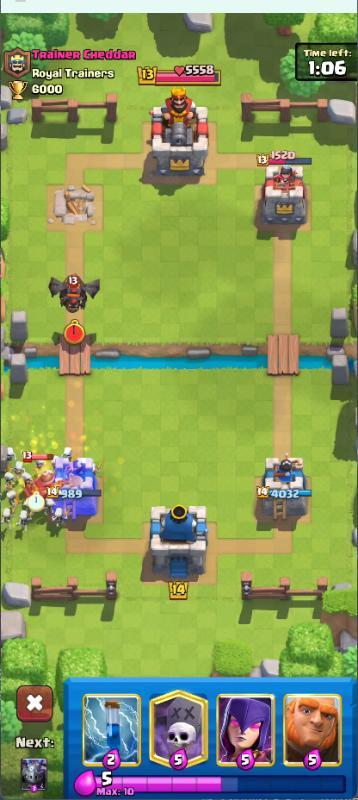enemy_lava_hound: (44, 265, 104, 318)
enemy_miner: (25, 465, 82, 497)
player_skeletons: (46, 498, 72, 527), (15, 503, 36, 527), (0, 468, 21, 492), (0, 501, 18, 526), (9, 460, 28, 481)
